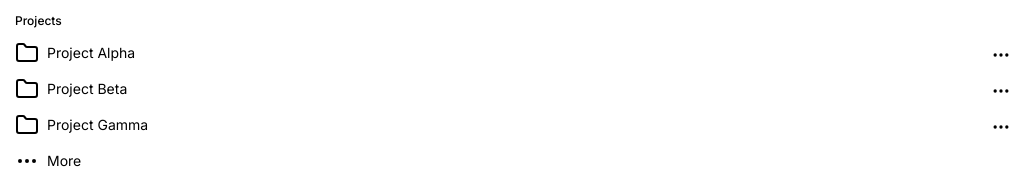
NavProjects › Project Actions Dropdown › opens dropdown menu when action button is clicked
This screenshot has width=1023, height=184.
// Click the first action button
Click the button without text in the row of "Project Alpha": (1001, 55) [991,43,1011,67]
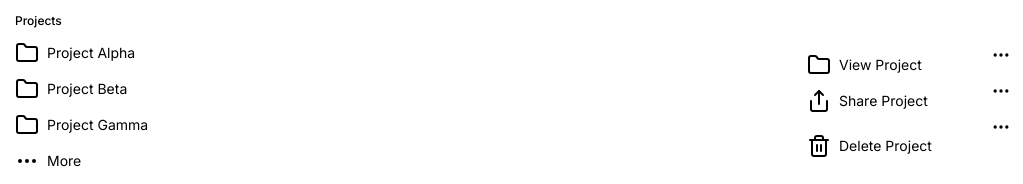
Result: the text "View Project" is shown at [839,55,922,75]
Result: the text "Share Project" is shown at [839,91,928,111]
Result: the text "Delete Project" is shown at [839,136,932,156]
